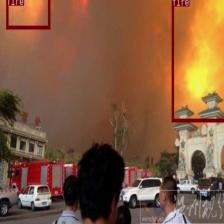fire: (171, 0, 224, 121), (5, 0, 50, 29)
